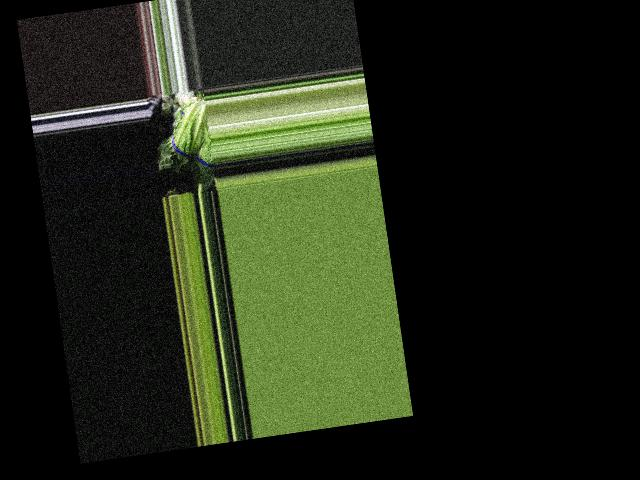lettuce: (154, 103, 215, 174)
